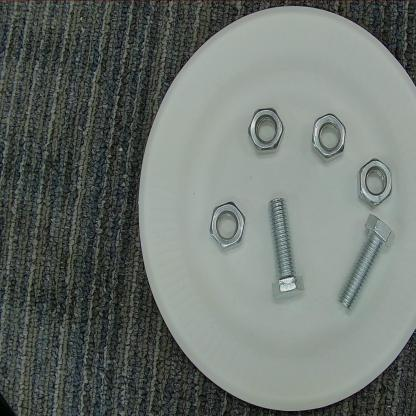FOD: (329, 211, 398, 318), (256, 193, 308, 305), (353, 155, 395, 214), (244, 102, 286, 160), (310, 110, 348, 167), (207, 202, 248, 253)
